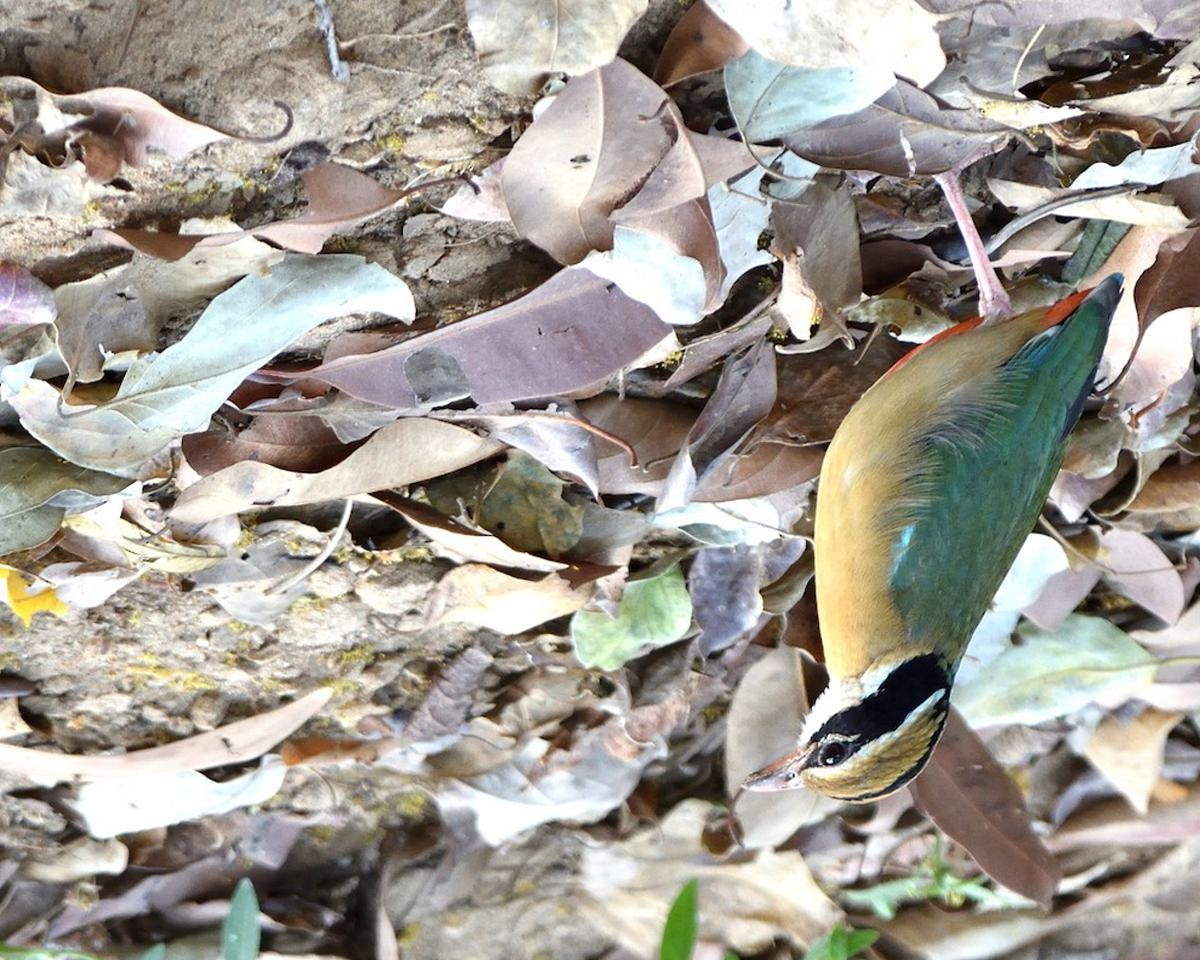pitta: (698, 168, 1155, 858)
